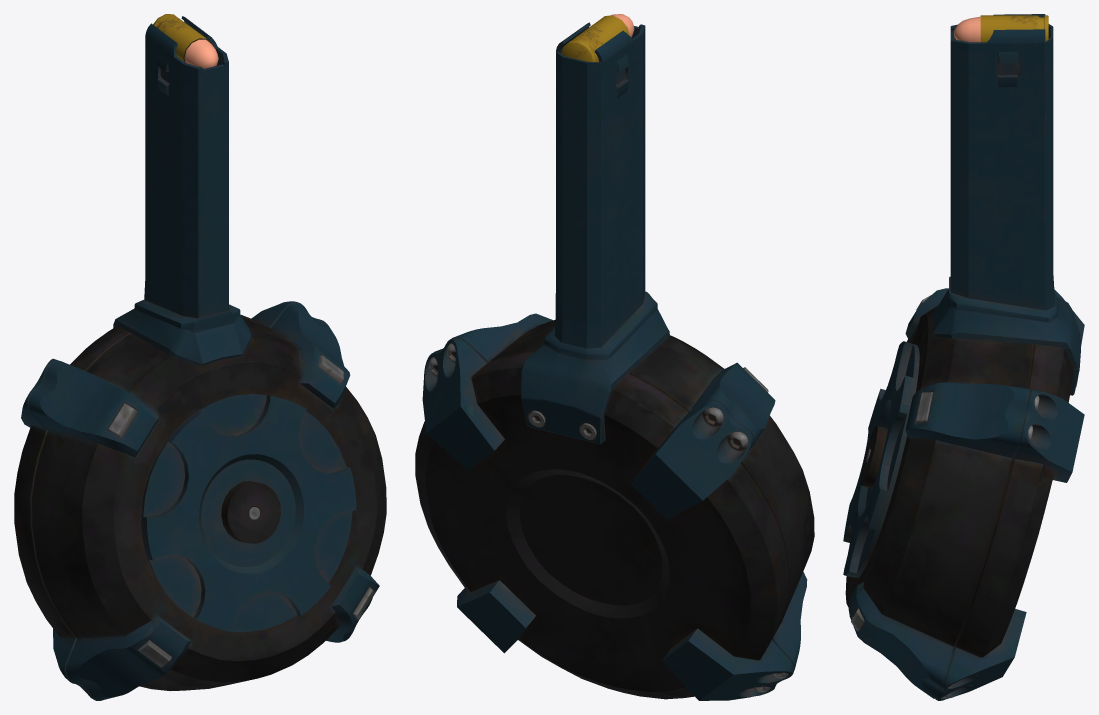
The model's file is Mag_9mm_50rdns_A.glb.
3 renders of one model, left to right at view 1: azimuth 30°, elevation 25°; view 2: azimuth 150°, elevation 25°; view 3: azimuth 270°, elevation 25°, orthographic. The views are drawn at different scales.
Parts seen in each view (by area): view 1: Mag_9mm_50rdns_A, Cartridge1.002; view 2: Mag_9mm_50rdns_A, Cartridge1.002; view 3: Mag_9mm_50rdns_A, Cartridge1.002.
Boxes of the visible parts, x1,y1,x2,y2 form: Mag_9mm_50rdns_A: [14, 16, 386, 700]; Cartridge1.002: [153, 14, 218, 68]; Mag_9mm_50rdns_A: [415, 22, 814, 700]; Cartridge1.002: [561, 14, 634, 62]; Mag_9mm_50rdns_A: [843, 14, 1084, 700]; Cartridge1.002: [953, 15, 1048, 42].
Bounding box in the file's own units: 0.163 × 0.2986 × 0.101.
Materials: 2 (2 with a texture image).
